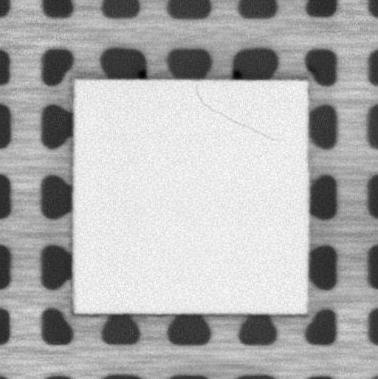DIE_CRACK: (195, 84, 278, 142)
